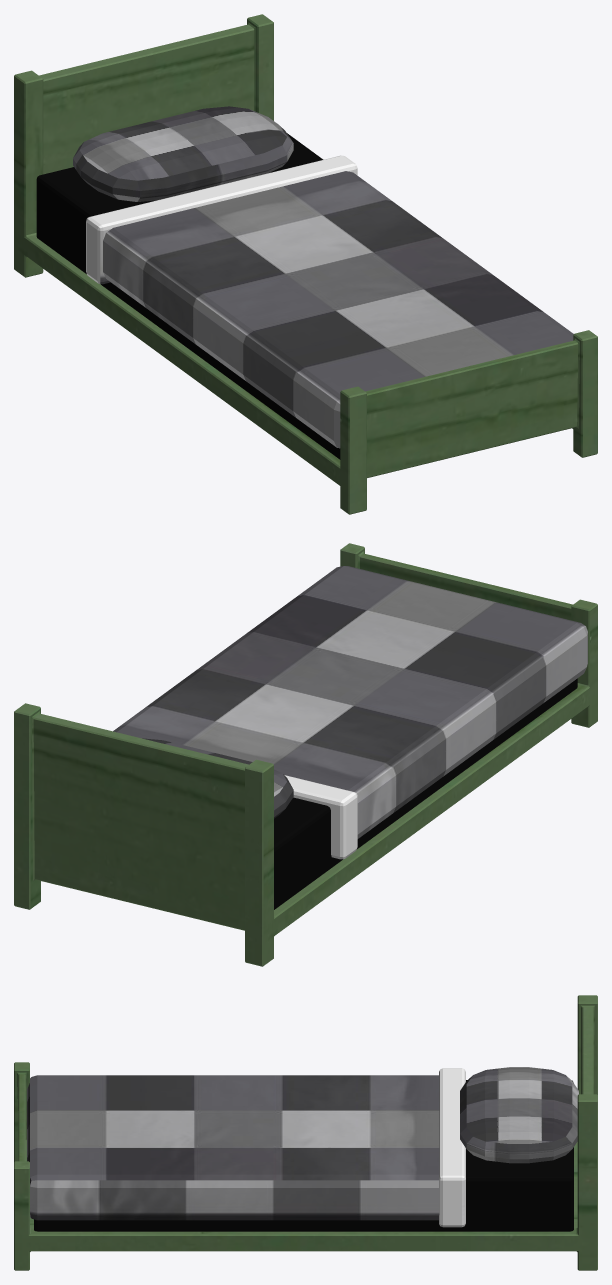
The model's file is ado_lit.fbx.
3 renders of one model, top to bottom at view 1: azimuth 30°, elevation 25°; view 2: azimuth 150°, elevation 25°; view 3: azimuth 270°, elevation 25°, orthographic. The views are drawn at different scales.
Parts seen in each view (by area): view 1: Bed ado; view 2: Bed ado; view 3: Bed ado.
Part boxes in pixels (bbox=[...]): Bed ado: bbox=[14, 14, 597, 514]; Bed ado: bbox=[14, 543, 597, 966]; Bed ado: bbox=[14, 995, 597, 1270].
Bounding box in the file's own units: 149 × 107 × 333.
Materials: 4 (3 with a texture image).
